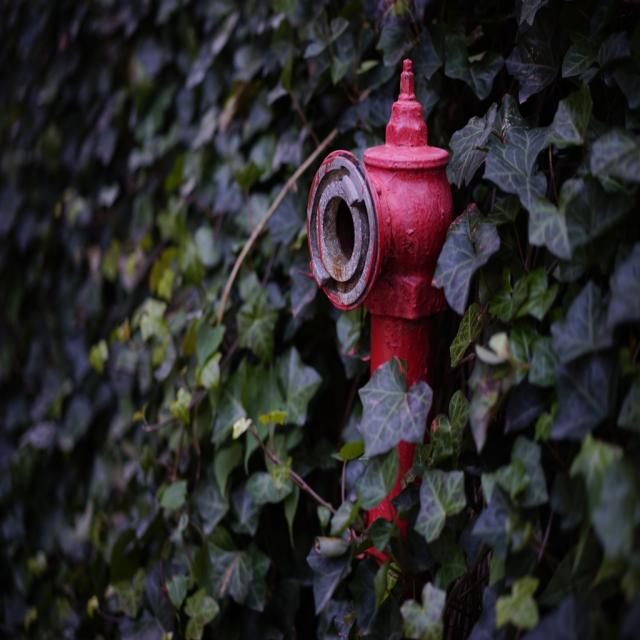fire_hydrant: (306, 55, 450, 559)
